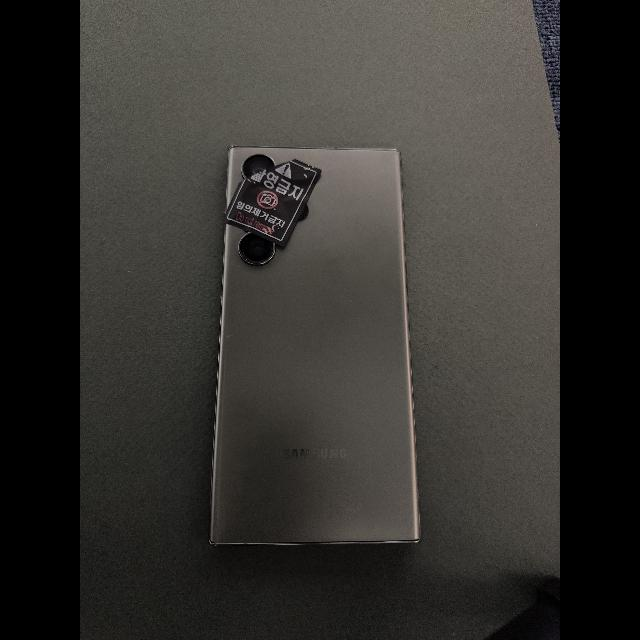lens: (238, 232, 274, 266), (241, 154, 275, 179)
phone: (209, 146, 421, 545)
sticker: (225, 158, 322, 246)
